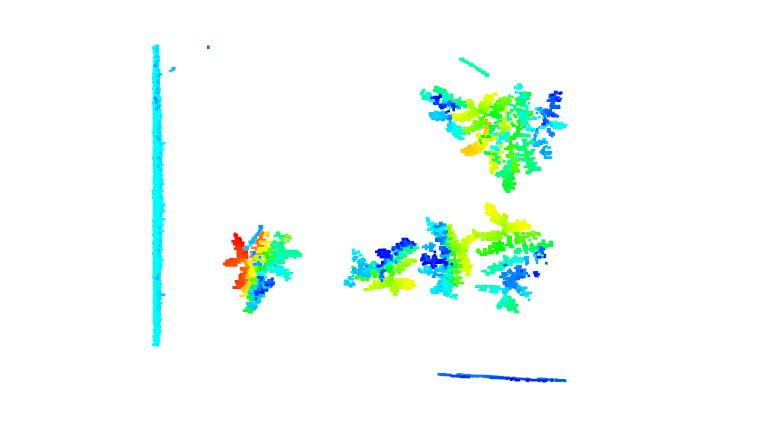chickpea: (459, 83, 572, 192), (476, 197, 556, 316), (220, 224, 307, 316), (335, 236, 424, 303), (421, 216, 477, 305), (422, 74, 468, 142)
